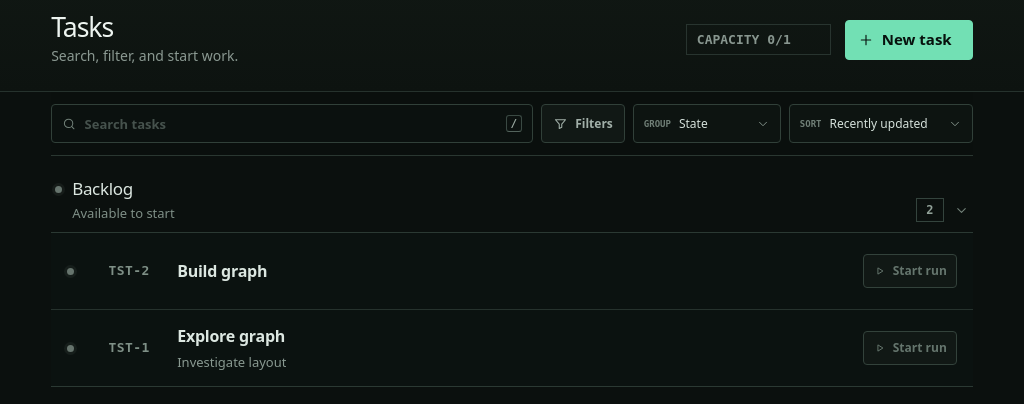
WorkBoard › searches task keys, titles, descriptions, and acceptance criteria
Type "keyboard" into the search field with placeholder "Search tasks" at (291, 124), box [84,102,498,144]
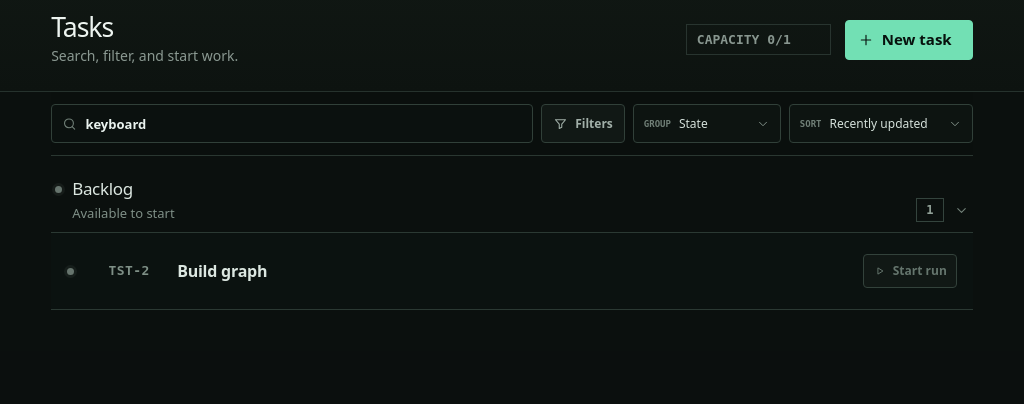
Check: the text "Build graph" is shown, box [177,260,267,282]
Check: the button "Explore graph" is gone
Replace the text in the search field with placeholder "Search tasks" with "TST-1" at (304, 124), box [85,102,522,144]
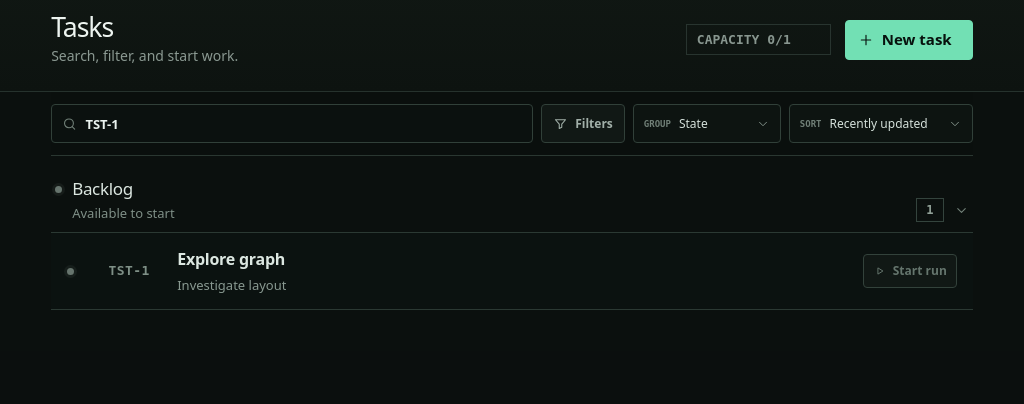
Check: the text "Explore graph" is shown, box [177,248,285,270]
